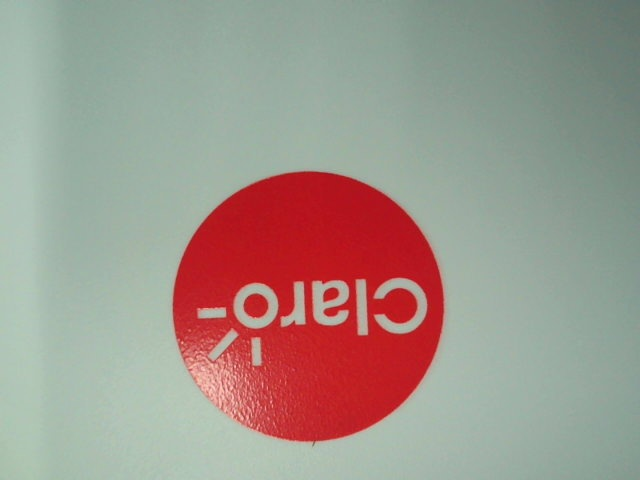BC_ClaorRed: (162, 166, 459, 448)
